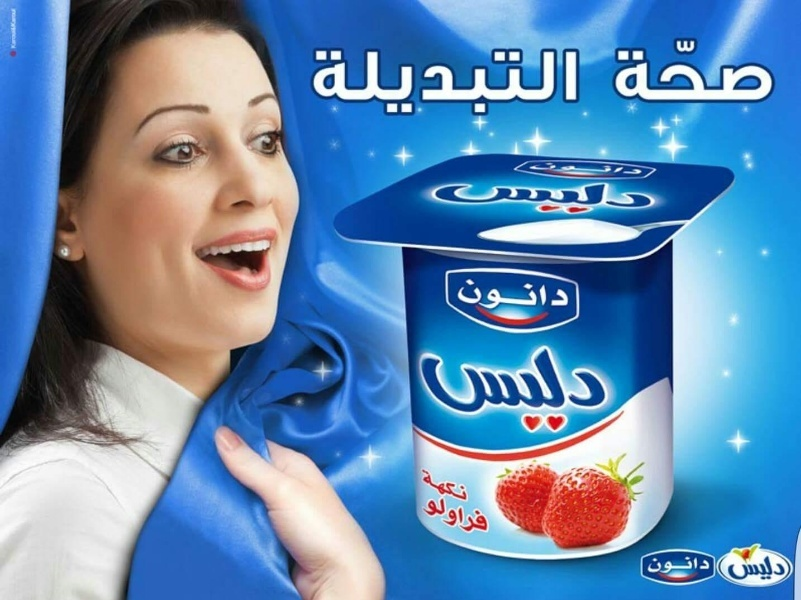text: (593, 345, 609, 433), (433, 345, 448, 433), (449, 345, 464, 433), (465, 345, 480, 433), (481, 345, 496, 433), (497, 345, 512, 433), (513, 345, 528, 433), (529, 345, 544, 433), (545, 345, 560, 433), (561, 345, 576, 433), (577, 345, 592, 433), (419, 345, 432, 433), (321, 48, 336, 116), (337, 48, 352, 116), (353, 48, 368, 116), (369, 48, 384, 116), (385, 48, 400, 116), (401, 48, 416, 116), (417, 48, 432, 116), (433, 48, 448, 116), (449, 48, 464, 116), (465, 48, 480, 116), (481, 48, 496, 116), (497, 48, 512, 116), (513, 48, 528, 116), (529, 48, 544, 116), (545, 48, 560, 116), (561, 48, 576, 116), (625, 37, 640, 104), (641, 37, 656, 104), (657, 37, 672, 104), (673, 37, 688, 104), (689, 37, 704, 104), (705, 37, 720, 104), (721, 37, 736, 104), (737, 37, 752, 104), (753, 37, 768, 104), (612, 37, 624, 104), (465, 171, 480, 223), (481, 171, 496, 223), (497, 171, 512, 223), (513, 171, 528, 223), (529, 171, 544, 223), (545, 171, 560, 223), (561, 171, 576, 223), (577, 171, 592, 223), (593, 171, 608, 223), (609, 171, 624, 223), (625, 171, 640, 223), (641, 171, 656, 223), (433, 490, 448, 540), (449, 490, 464, 540), (465, 490, 480, 540), (311, 48, 320, 116), (433, 466, 448, 506), (449, 466, 464, 506), (481, 490, 492, 540), (465, 278, 480, 311), (481, 278, 496, 311), (497, 278, 512, 311), (513, 278, 528, 311), (529, 278, 544, 311), (545, 278, 560, 311), (769, 37, 776, 104), (657, 171, 665, 223), (422, 466, 432, 506), (737, 556, 752, 581), (753, 556, 768, 581), (769, 556, 784, 581), (561, 278, 571, 311), (426, 490, 432, 540), (577, 48, 581, 116), (657, 557, 672, 574), (673, 557, 688, 574), (689, 557, 704, 574), (465, 466, 471, 506), (545, 162, 560, 178), (561, 162, 576, 178), (577, 162, 592, 178), (593, 162, 608, 178), (609, 162, 624, 178), (625, 162, 640, 178), (728, 556, 736, 581), (458, 278, 464, 311), (461, 171, 464, 223), (535, 162, 544, 178), (648, 557, 656, 574), (641, 162, 648, 178), (705, 557, 710, 574), (785, 556, 786, 581)
